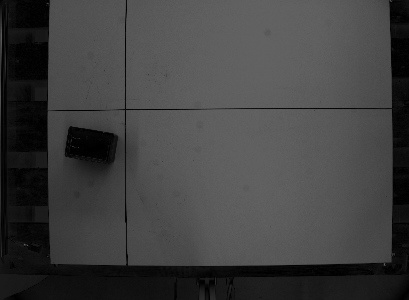kltxs: (62, 123, 119, 167)
